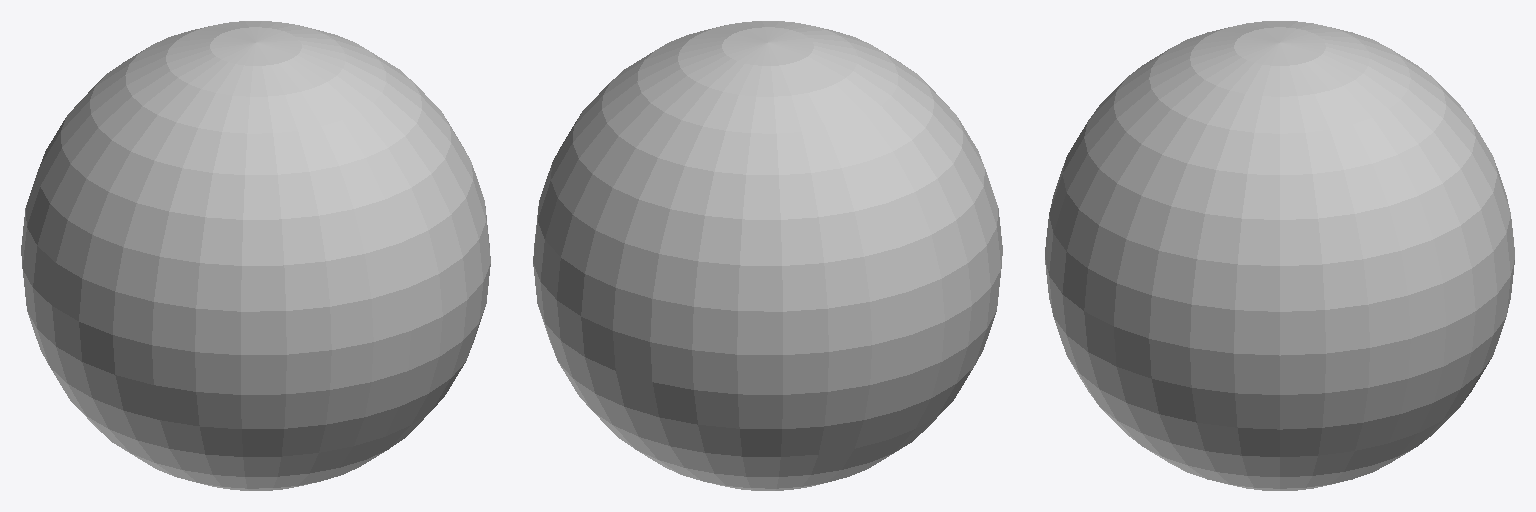
Rendered from left_ball.obj.
The picture shows the model from 3 angles: view 1: azimuth 30°, elevation 25°; view 2: azimuth 150°, elevation 25°; view 3: azimuth 270°, elevation 25°; orthographic projection.
Visible parts, largest first — view 1: Sphere.001_Sphere.003; view 2: Sphere.001_Sphere.003; view 3: Sphere.001_Sphere.003.
Boxes of the visible parts, <box> form: Sphere.001_Sphere.003: <box>21,21,490,490</box>; Sphere.001_Sphere.003: <box>533,21,1002,490</box>; Sphere.001_Sphere.003: <box>1045,21,1514,490</box>.
Size of the model in its own units: 2 by 2 by 2.